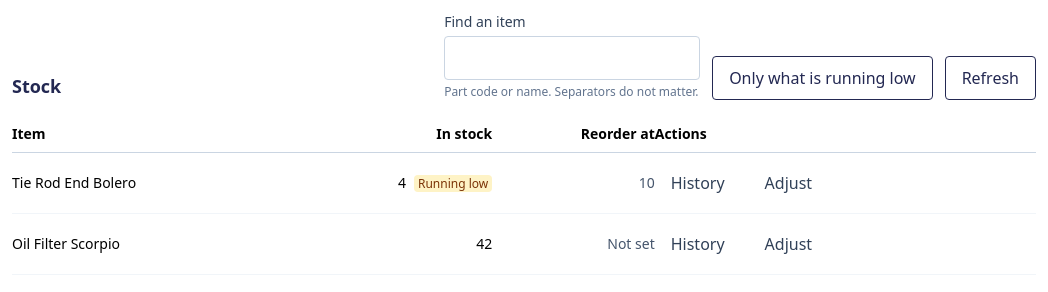
Test: the stock list › filters with the same normalisation as the counter search
Expected: the text "Tie Rod End Bolero" is shown, 12,153 -> 285,214
Type "tierod" into the field labelled "Find an item". click: point(572, 58)
box: 444,36 -> 700,80
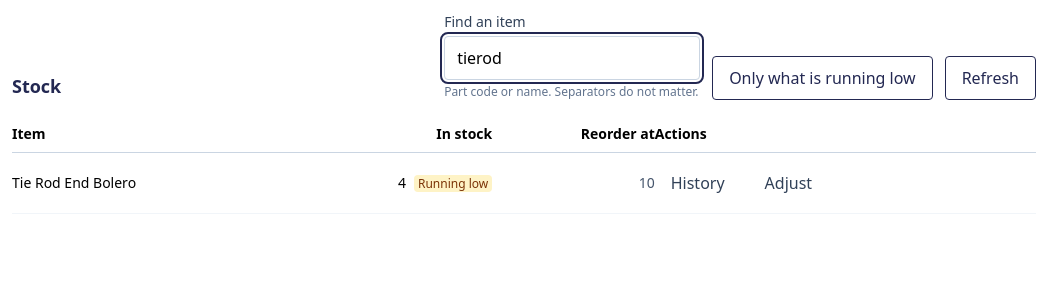
Expected: the text "Tie Rod End Bolero" is shown, 12,153 -> 285,214
Expected: the text "Oil Filter Scorpio" is gone
